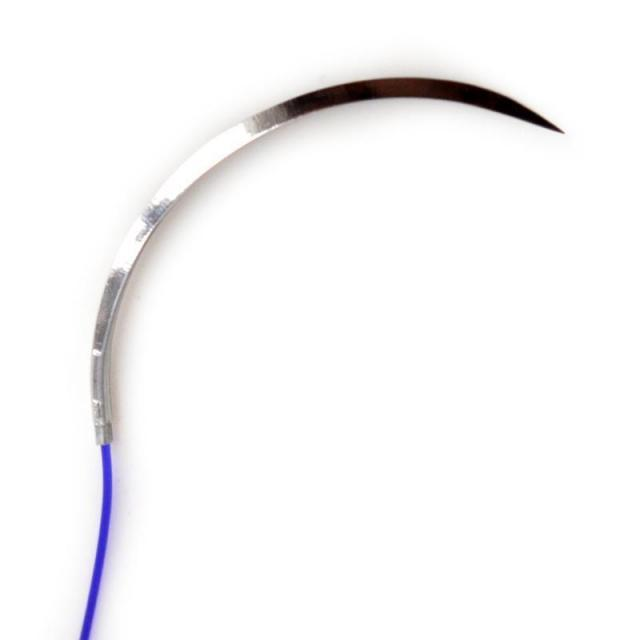Needle: (86, 74, 568, 454)
